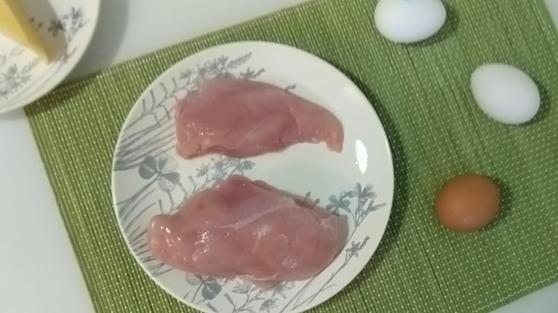cheese: (1, 1, 57, 63)
chicken_fillet: (159, 174, 350, 280), (178, 76, 343, 156)
egg: (468, 62, 543, 124), (435, 173, 503, 231), (375, 2, 446, 42)
